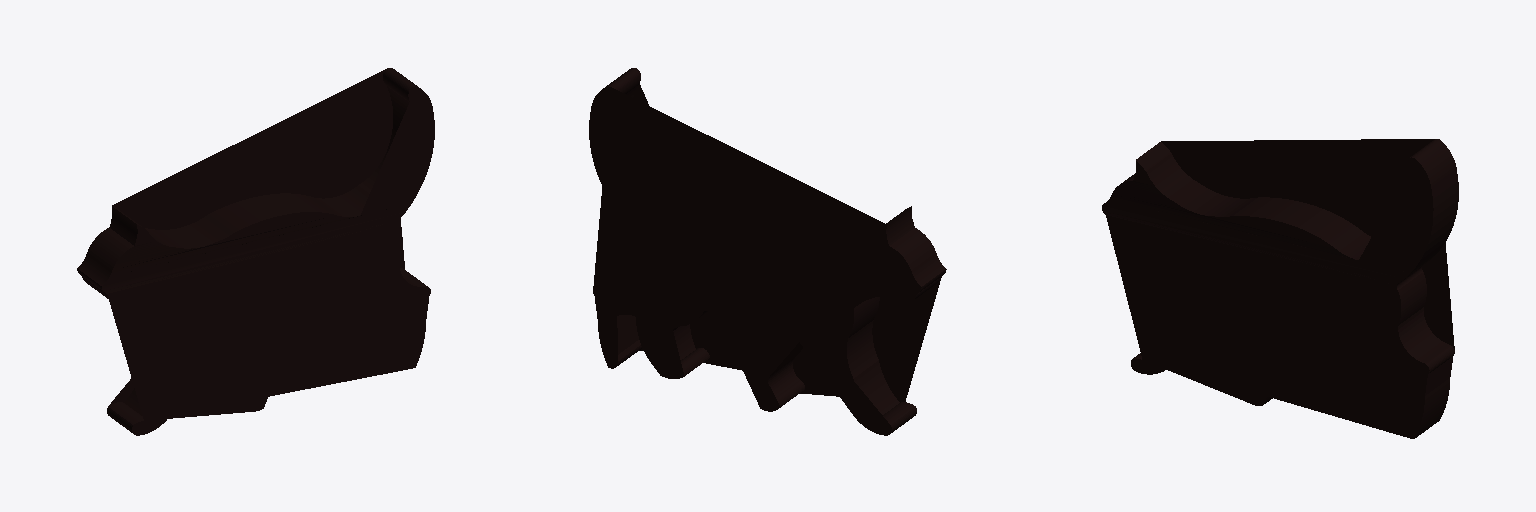
The model's file is neko.obj.
The picture shows the model from 3 angles: view 1: azimuth 30°, elevation 25°; view 2: azimuth 150°, elevation 25°; view 3: azimuth 330°, elevation 25°; orthographic projection.
Visible parts, largest first — view 1: Mesh1 Model; view 2: Mesh1 Model; view 3: Mesh1 Model.
Boxes of the visible parts, x1=… form: Mesh1 Model: x1=77, y1=68, x2=434, y2=435; Mesh1 Model: x1=589, y1=68, x2=946, y2=435; Mesh1 Model: x1=1102, y1=139, x2=1458, y2=438.
Size of the model in its own units: 319 by 262 by 42.25.